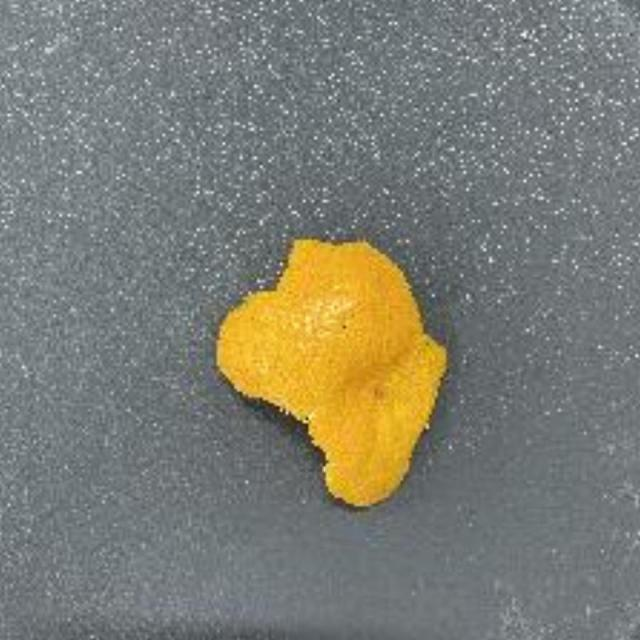orange-peel: (211, 237, 452, 511)
